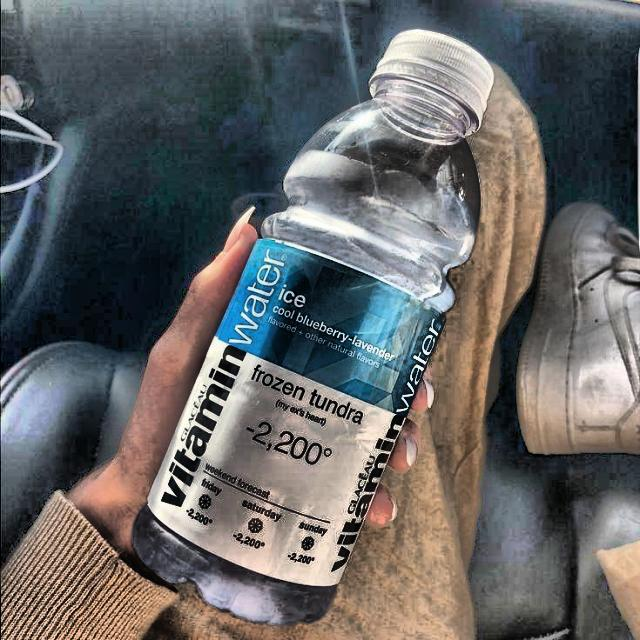Bottles: (126, 21, 510, 629)
